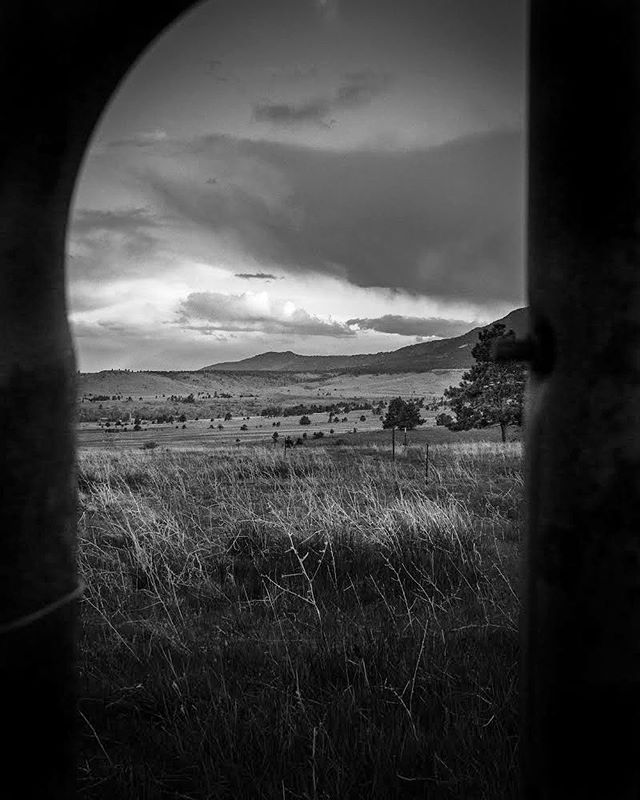grass: (69, 440, 565, 800)
sky: (81, 1, 575, 369)
tree: (456, 324, 528, 450), (380, 387, 423, 431)
